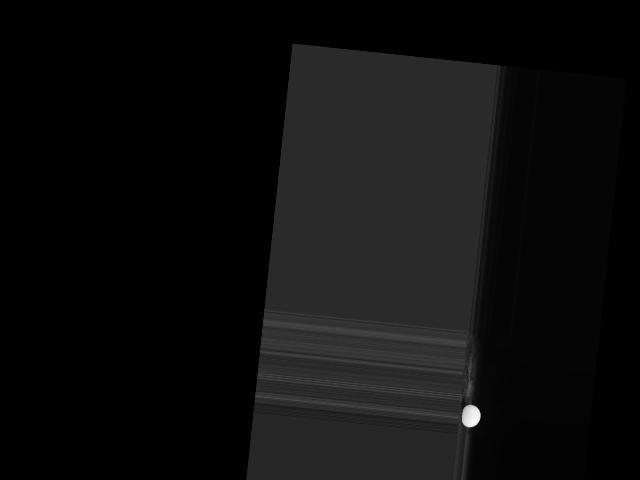egg: (460, 403, 481, 428)
